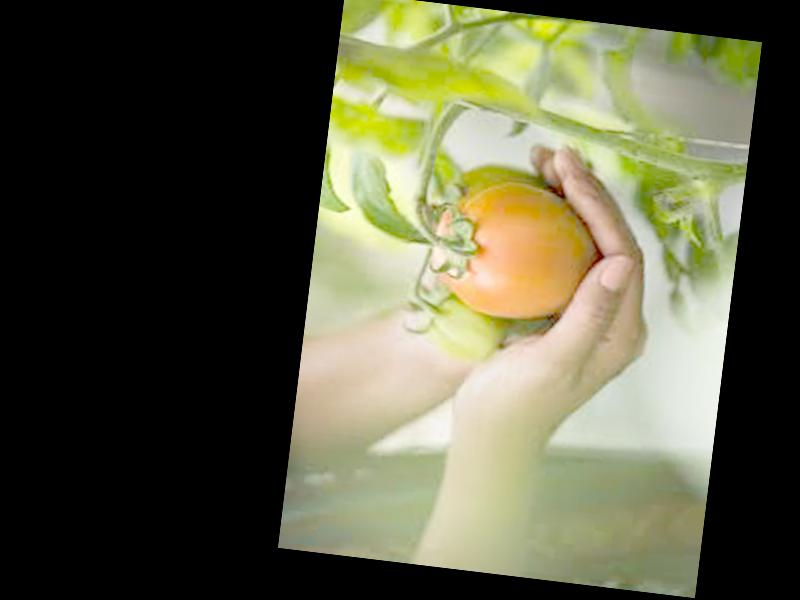Tomato: (427, 176, 596, 326)
